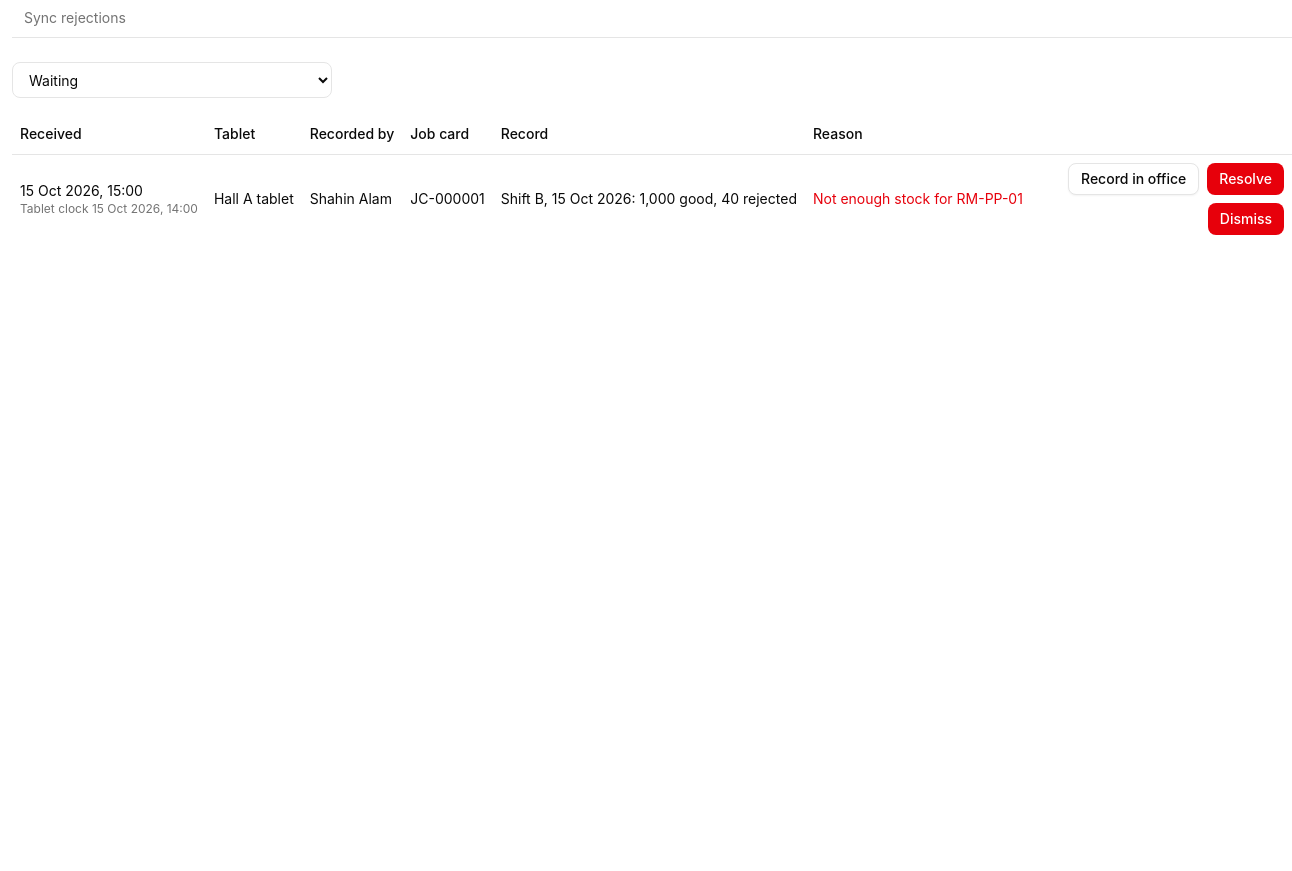
Test: sync rejections › opens the office shift form filled in from a refused record
Click the link "Record in office" at point(1134, 178), box [1068,162,1199,194]
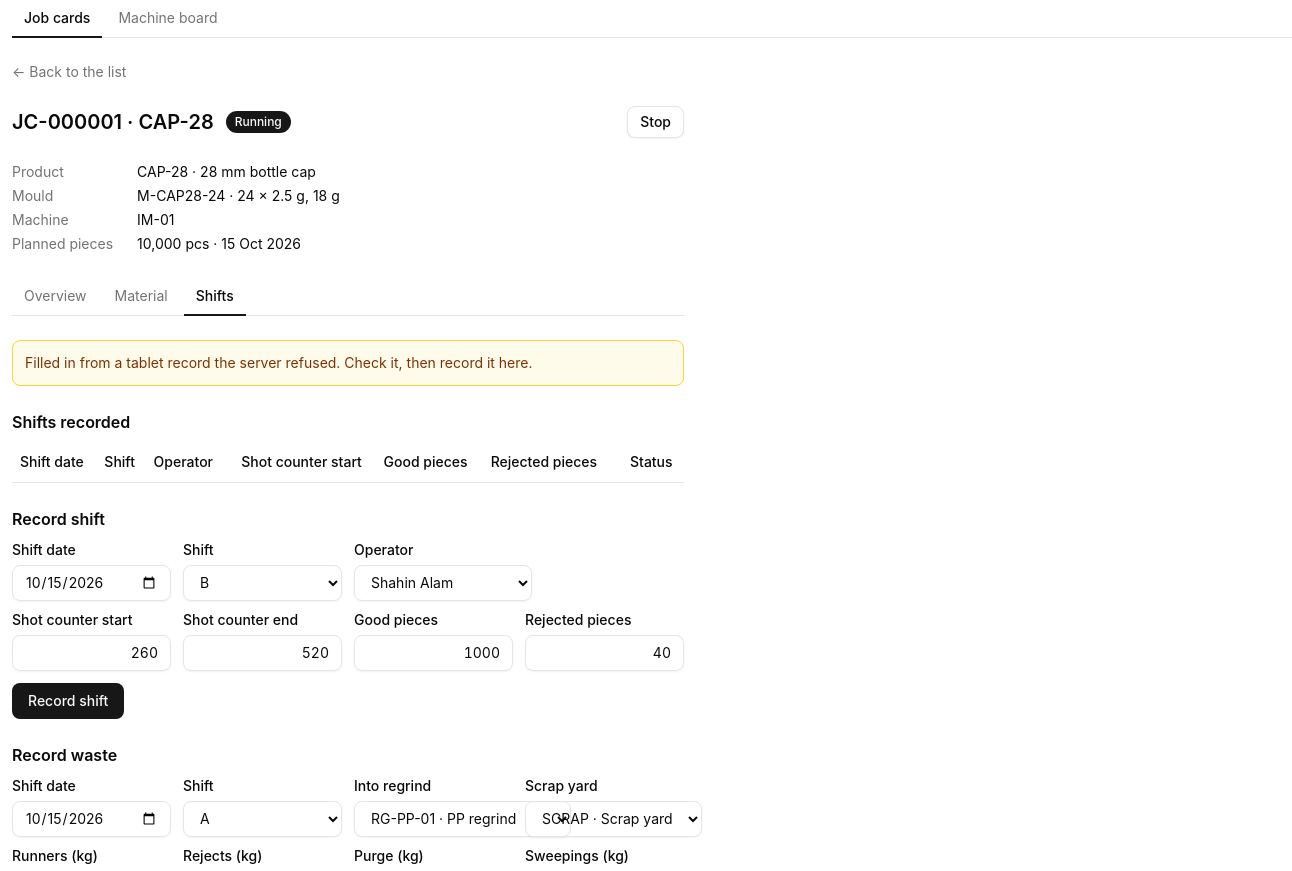
Result: the text "Filled in from a tablet record the server refused. Check it, then record it here." is shown at [25,354,532,371]
